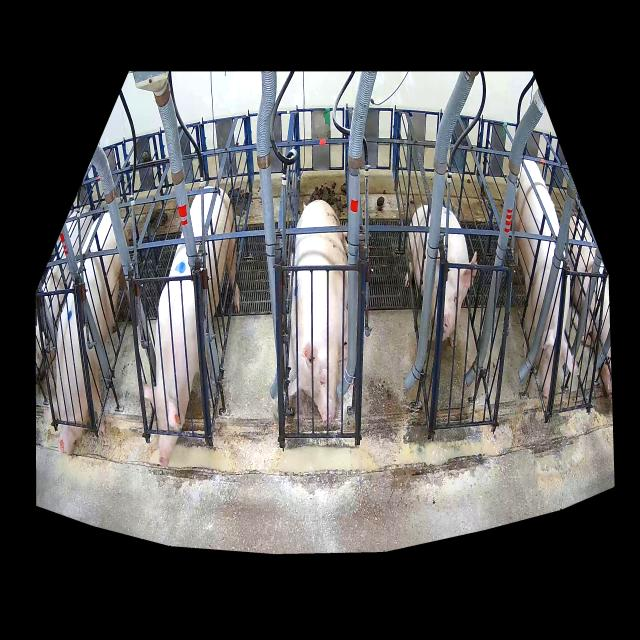pig: (142, 186, 240, 466), (44, 211, 130, 453), (514, 159, 580, 397), (288, 199, 348, 427), (405, 206, 478, 347)
